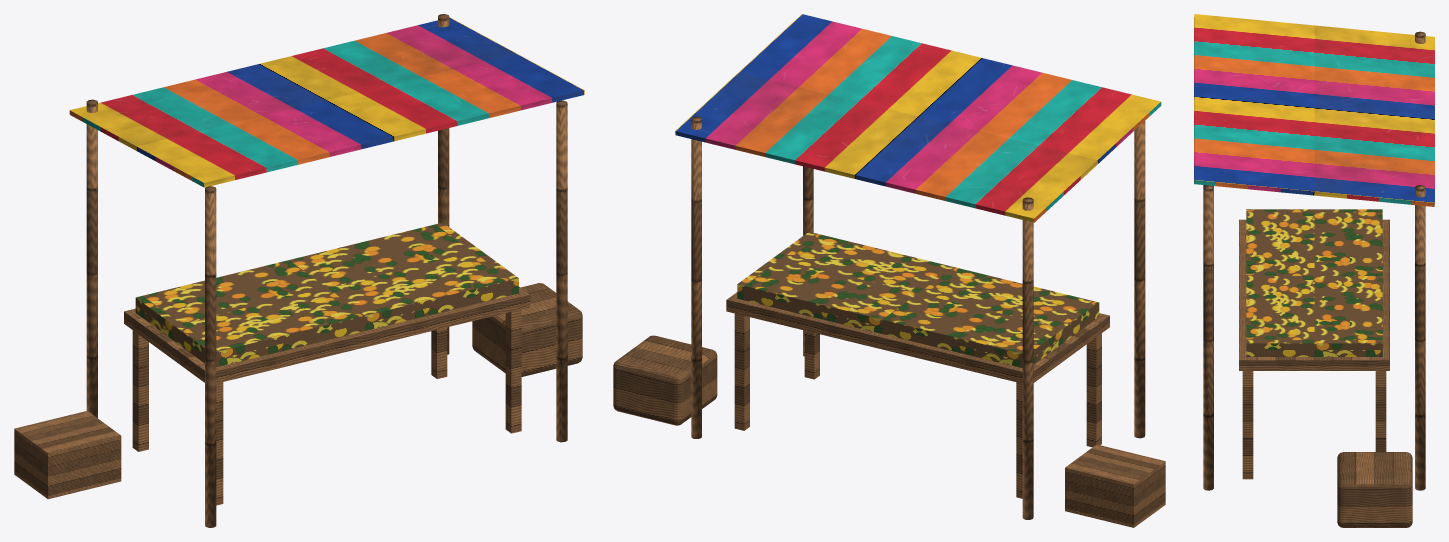
The model's file is MarketStall.fbx.
The picture shows the model from 3 angles, left to right: view 1: azimuth 30°, elevation 25°; view 2: azimuth 150°, elevation 25°; view 3: azimuth 270°, elevation 25°; orthographic projection. The views are drawn at different scales.
Parts seen in each view (by area): view 1: MarketStall; view 2: MarketStall; view 3: MarketStall.
Part boxes in pixels (x1,y1,x2,y2): MarketStall: (14,14,584,527); MarketStall: (613,14,1165,527); MarketStall: (1194,14,1434,527).
Size of the model in its own units: 3.7 by 2.3 by 1.59.
